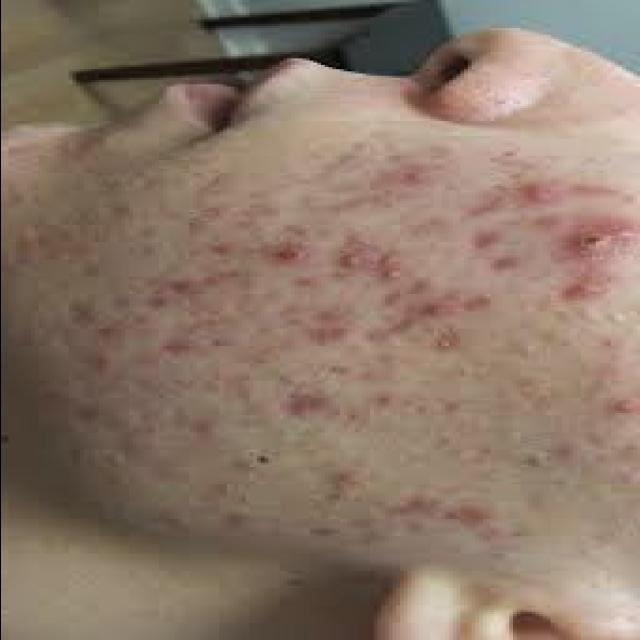Acne: (376, 280, 498, 322), (558, 215, 640, 263), (299, 305, 361, 351), (154, 269, 248, 297), (382, 162, 442, 196), (271, 390, 336, 421), (335, 240, 383, 274), (150, 334, 204, 364), (513, 180, 566, 208), (556, 278, 610, 305), (436, 504, 496, 528), (270, 238, 316, 268), (464, 225, 509, 252), (484, 252, 526, 278), (376, 250, 408, 284), (332, 466, 368, 494), (604, 394, 640, 419), (426, 332, 464, 354)
